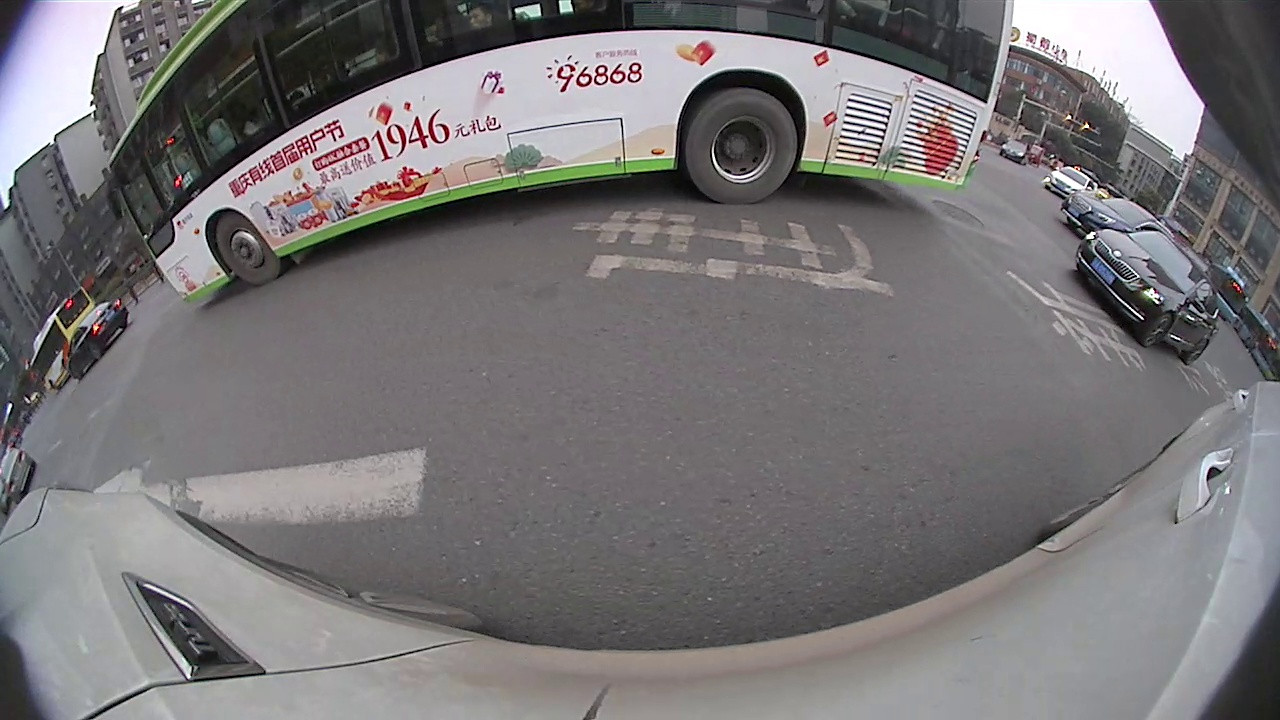bus: (105, 1, 1014, 308), (27, 285, 100, 396)
car: (1070, 230, 1223, 366), (1060, 189, 1166, 247), (63, 297, 132, 386), (1042, 159, 1101, 202)
front: (209, 211, 286, 287), (1140, 309, 1177, 350)
rear: (680, 83, 801, 211)
